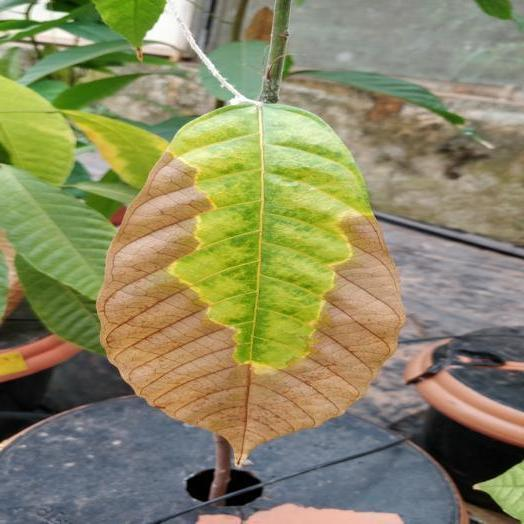Potassium: (98, 97, 403, 462)
